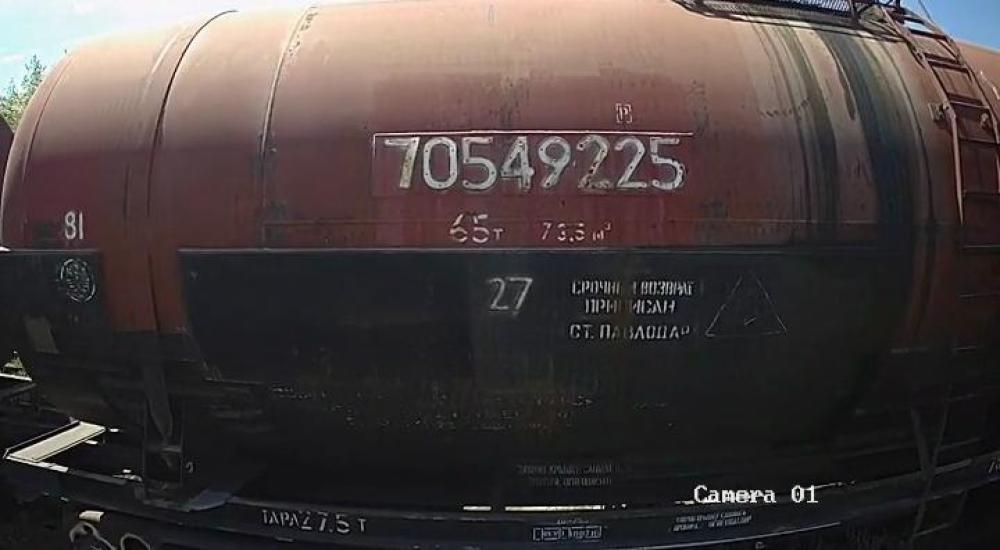Wagon-number: (378, 131, 691, 193)
